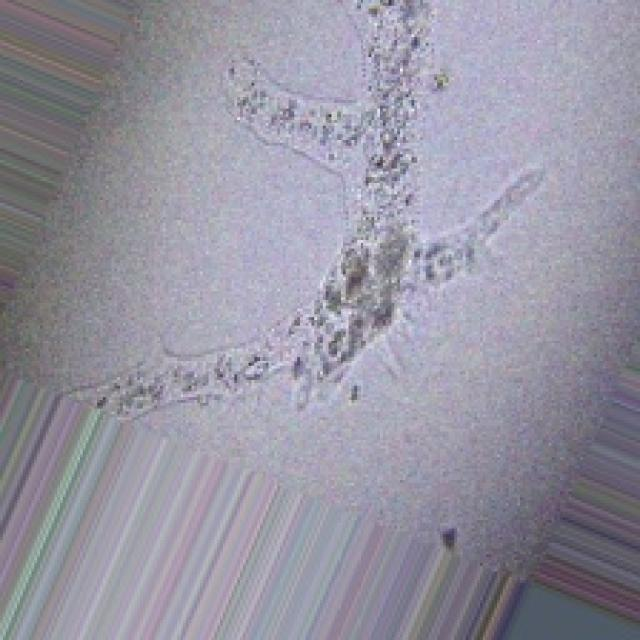Amoeba: (86, 2, 573, 488)
